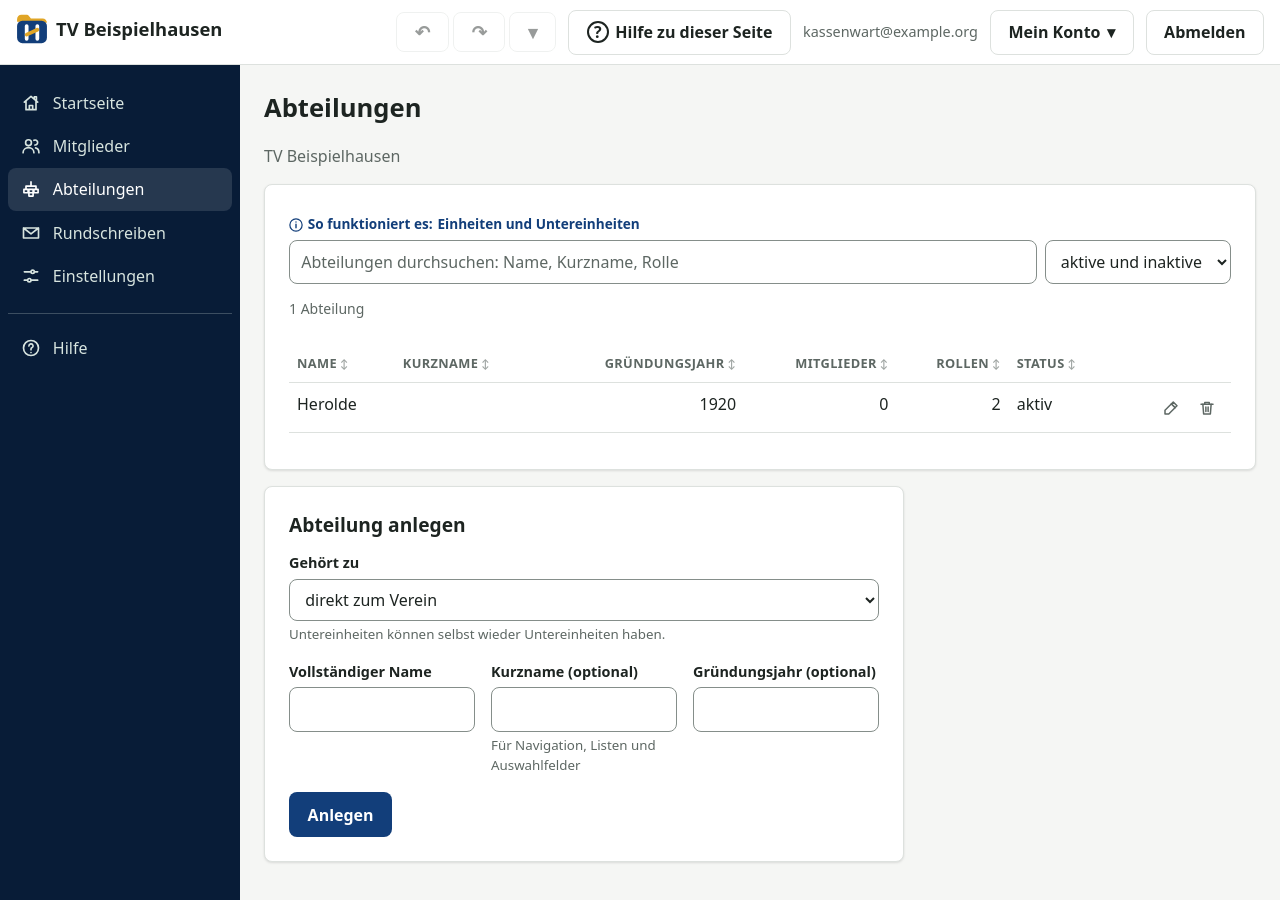
Test: Abteilungsrollen entfernen › zeigt einen Fehler des Servers im Dialog
Click the button named "Herolde bearbeiten" at [1171, 408], box x1=1155 y1=392 x2=1187 y2=424
(page scrolled)
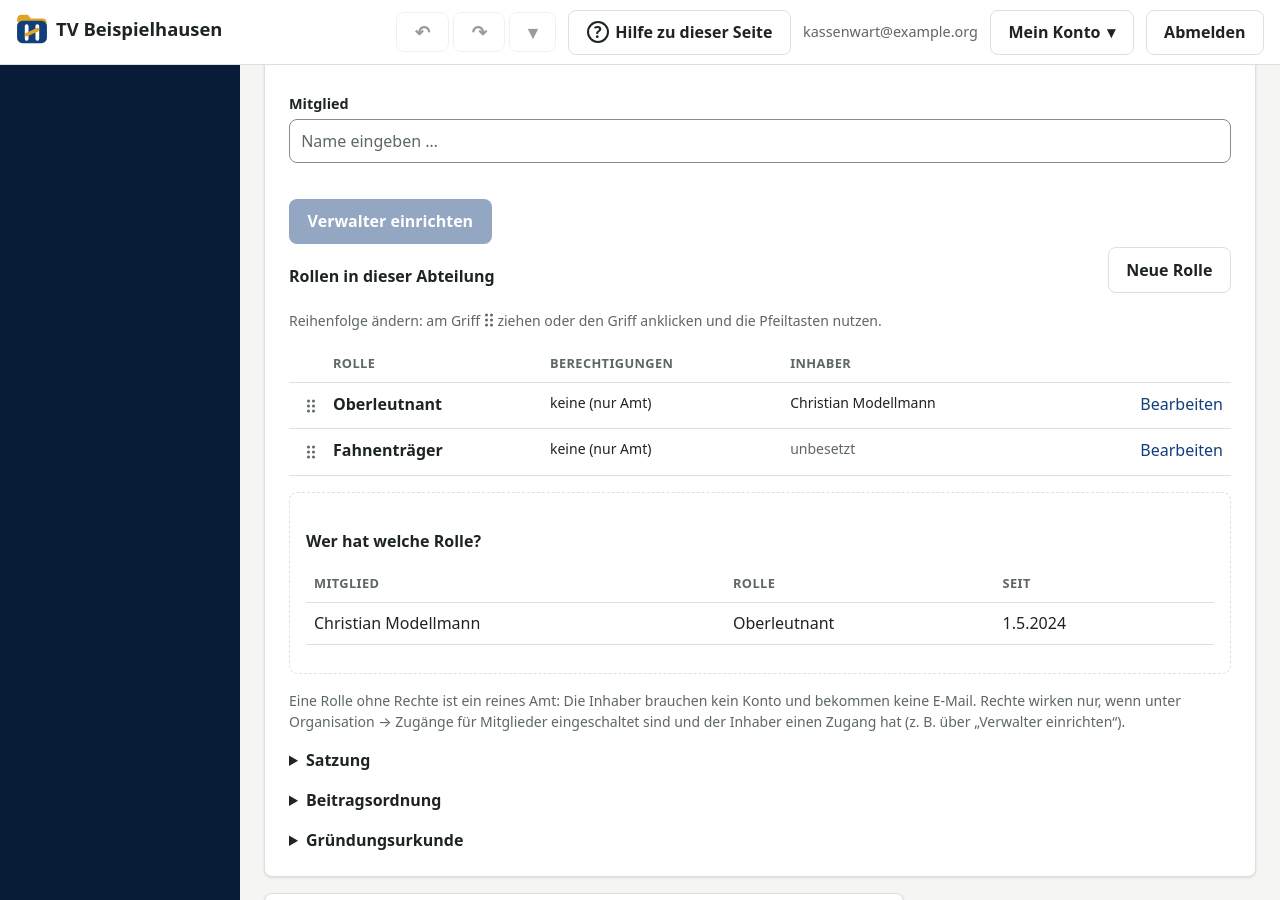
Click the button "Bearbeiten" in the row of "Fahnenträger" at [1182, 450], box x1=1140 y1=438 x2=1223 y2=462
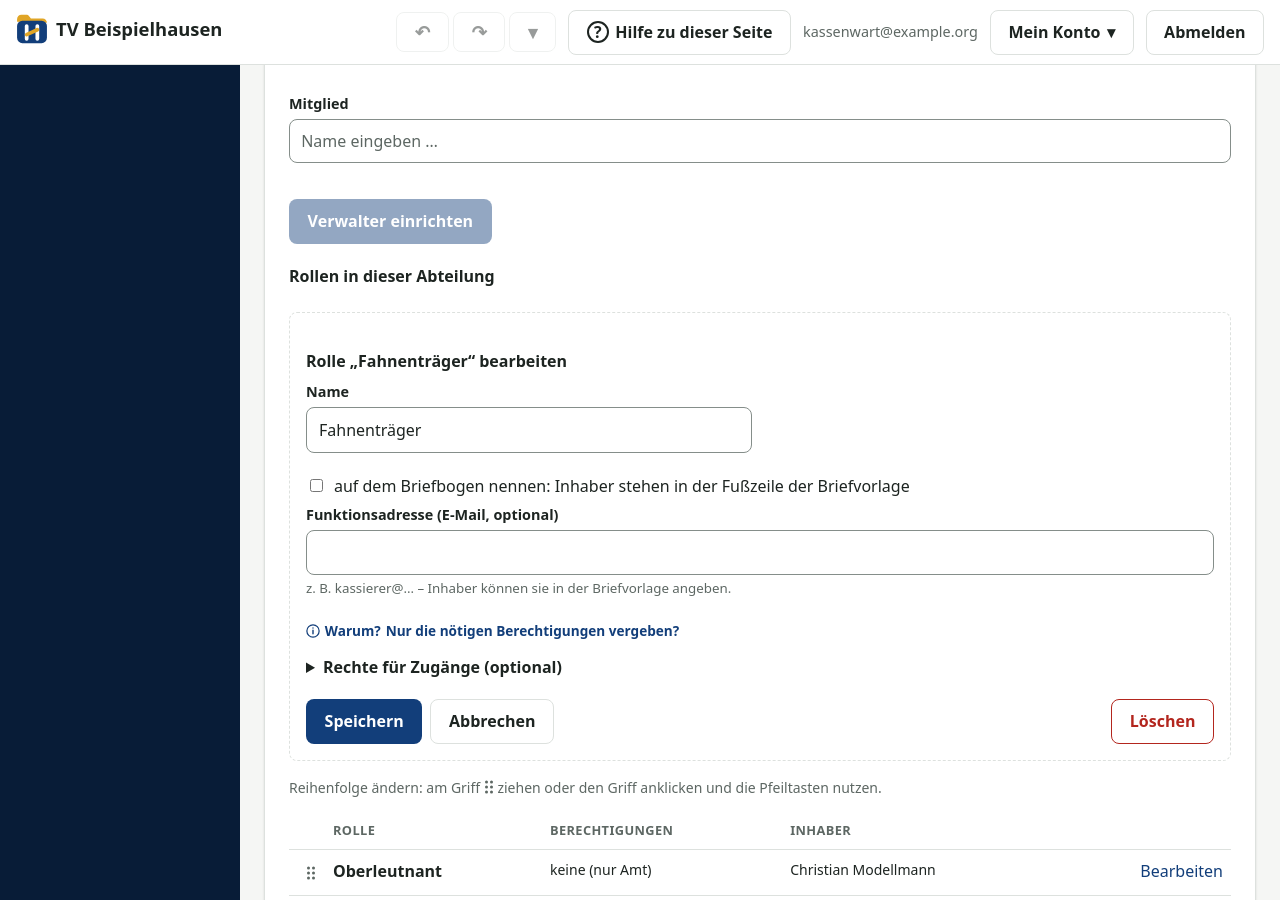
Click the button "Löschen" at [1163, 722], box x1=1111 y1=699 x2=1214 y2=744
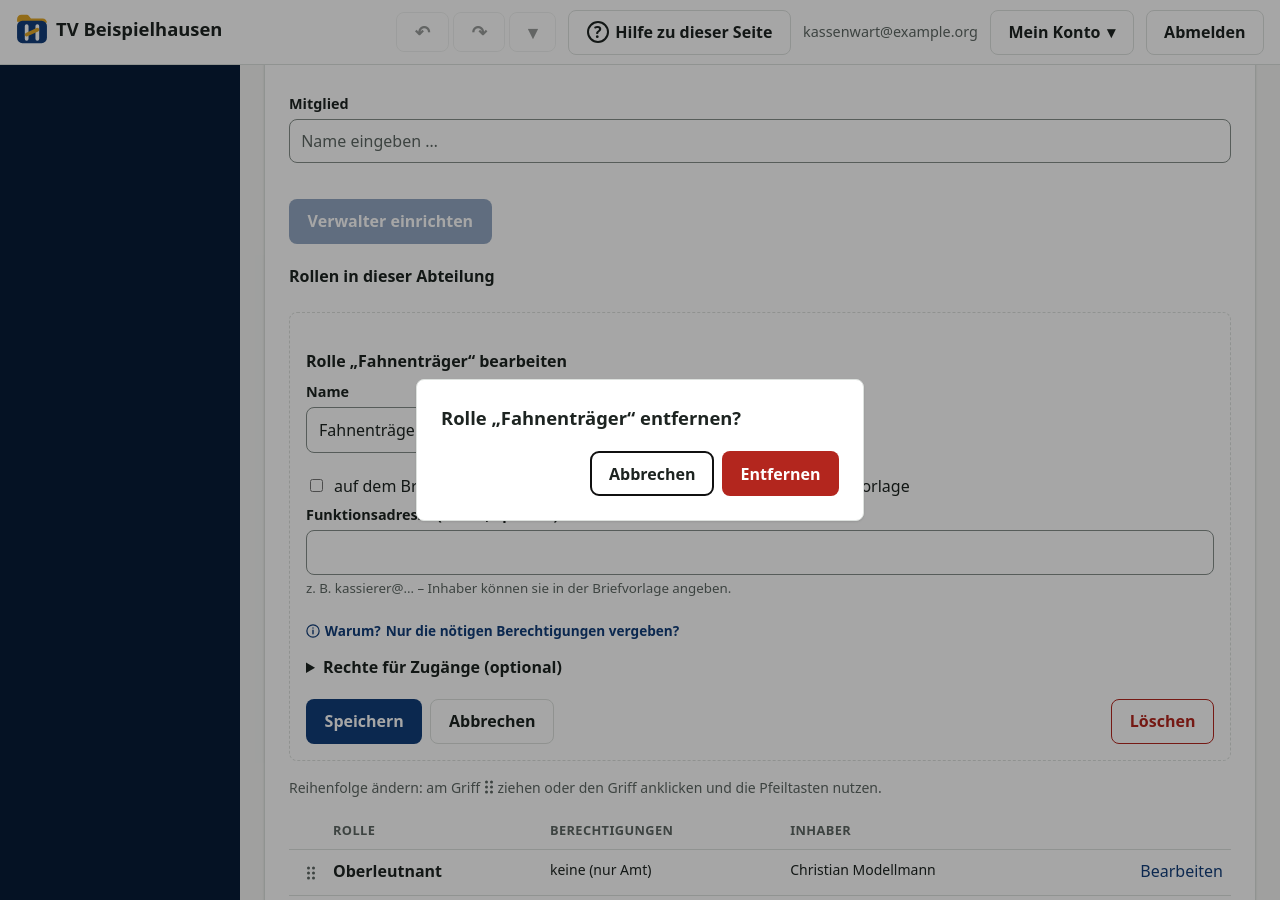
Click the button "Entfernen" at [780, 474], box x1=722 y1=451 x2=839 y2=496
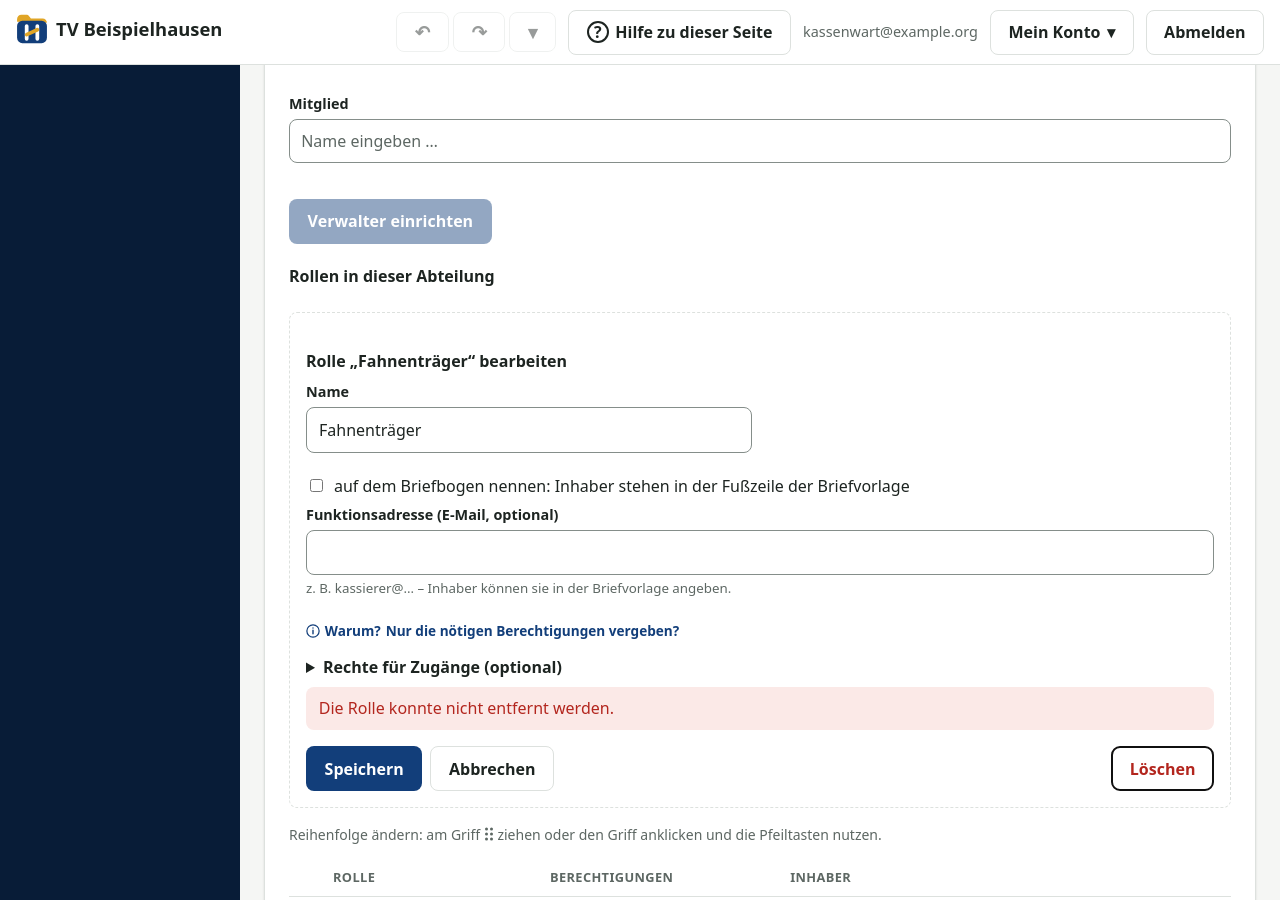
expect the text "Die Rolle konnte nicht entfernt werden." is shown: met, box x1=306 y1=687 x2=1214 y2=730
